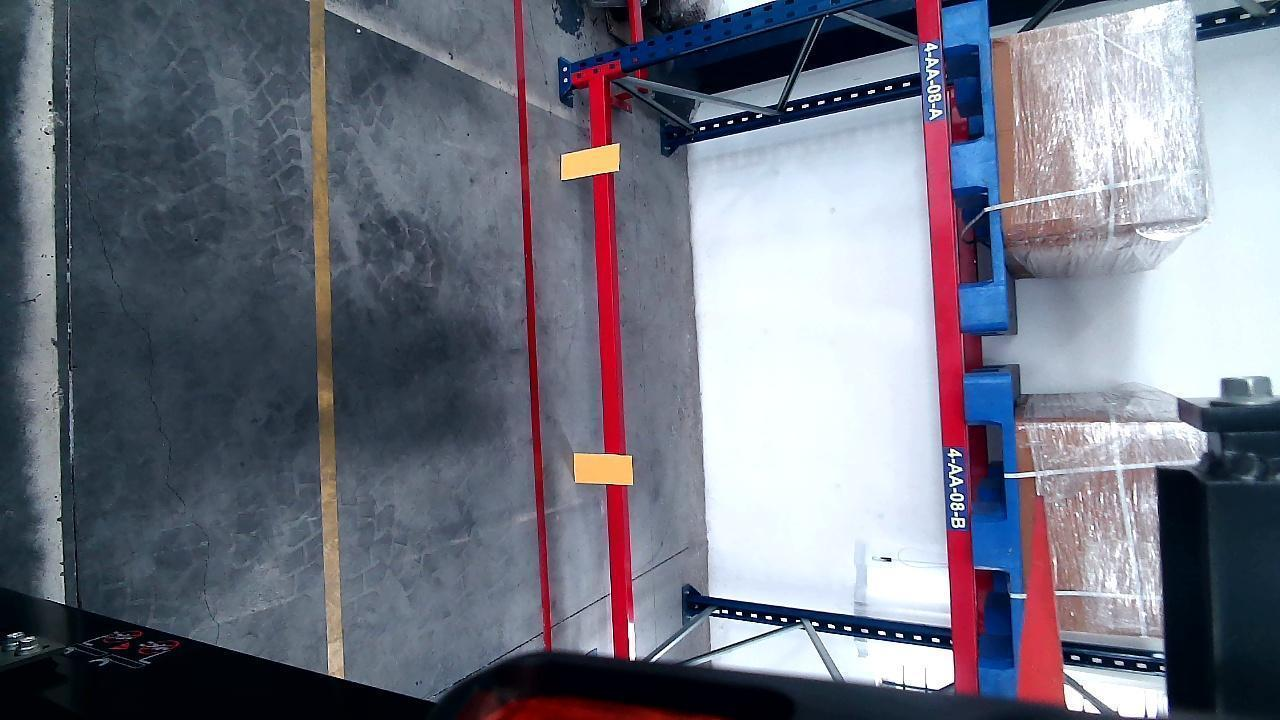red_line: (511, 3, 556, 641)
yellow_line: (309, 9, 344, 674)
